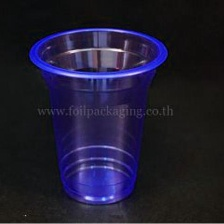glass: (23, 24, 176, 211)
